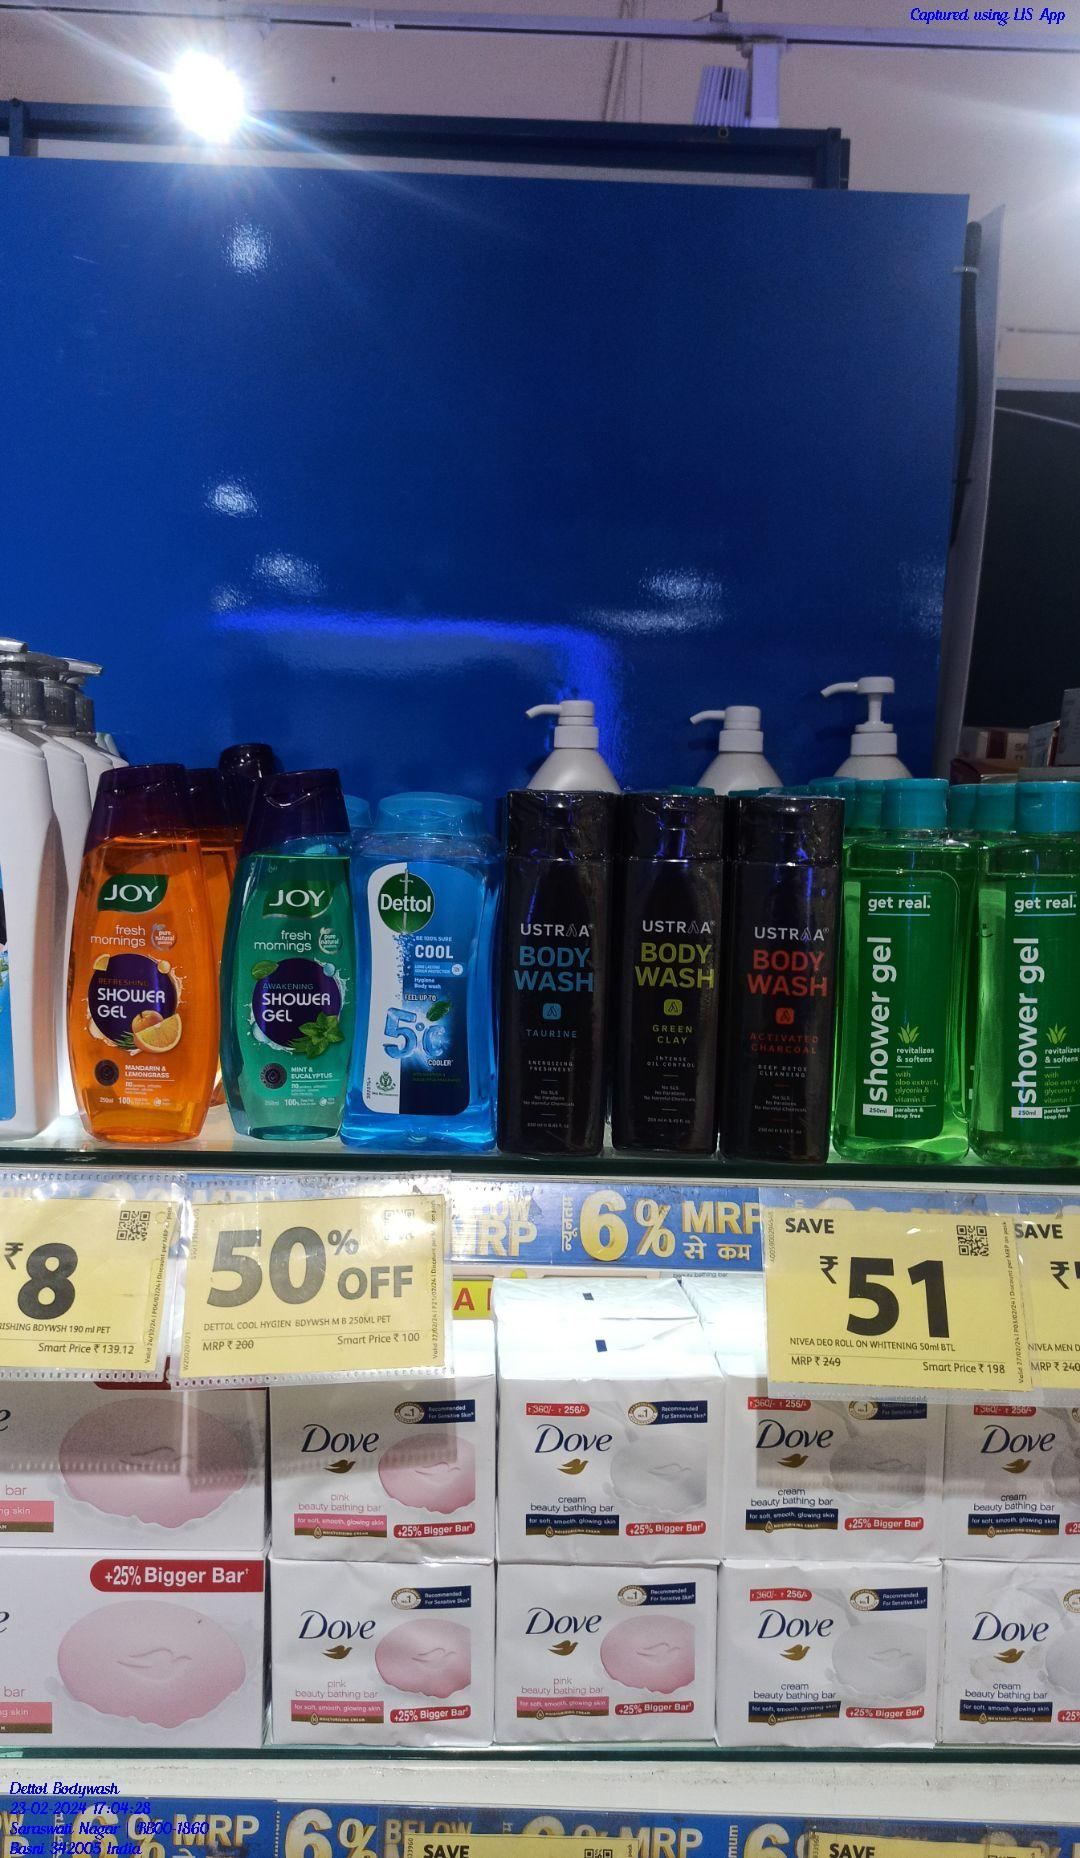Dettol_Bodywash_Cool: (352, 795, 496, 1146)
Joy_Shower_Gel_Mandarin_and_Lemongrass_250ML: (72, 778, 216, 1141)
Joy_Shower_Gel_Mint_and_Eucalyptus_250ML: (219, 774, 350, 1142)
